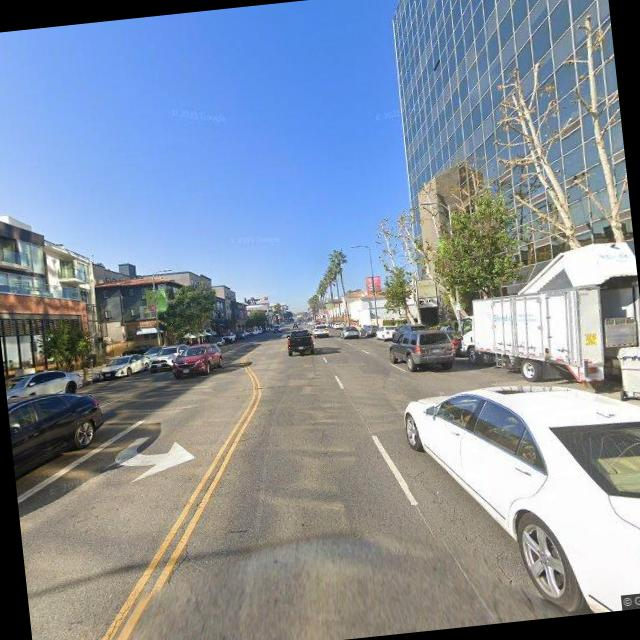pothole: (160, 541, 194, 586)
